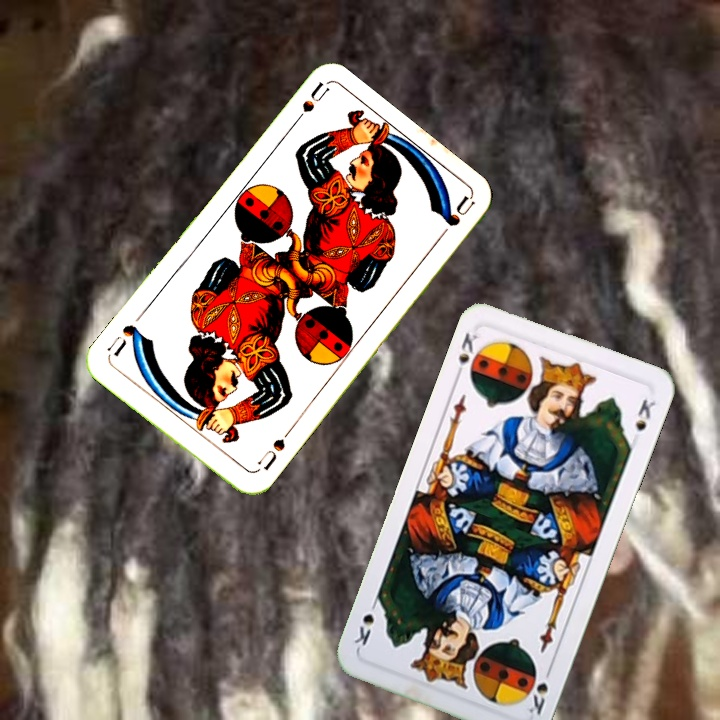SK: (524, 662, 555, 718), (451, 328, 483, 382)
SU: (286, 79, 331, 132), (251, 425, 294, 475)
